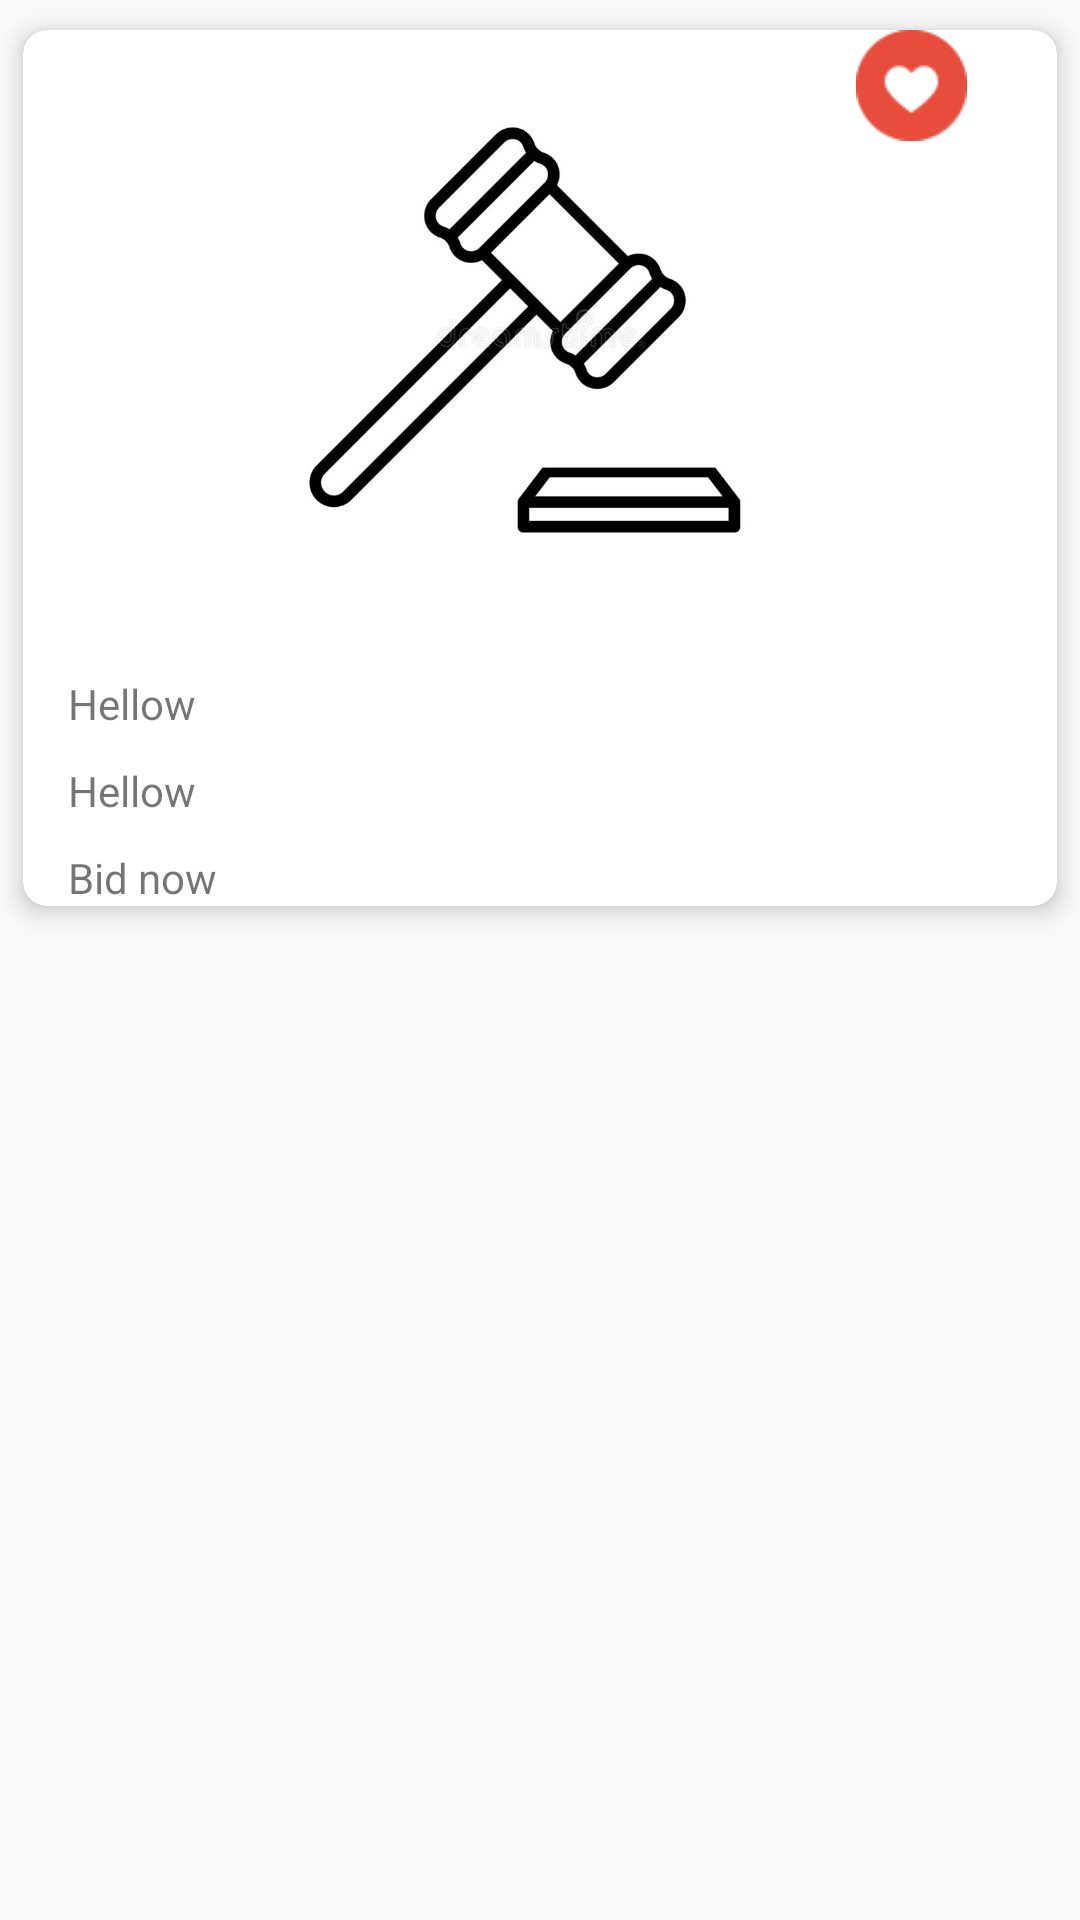

Locate icon controls on the screen. Image size 1080px×1920px, boxes as bbox=[x1, y1, x2, y2].
auct like: bbox=[856, 30, 967, 141]
